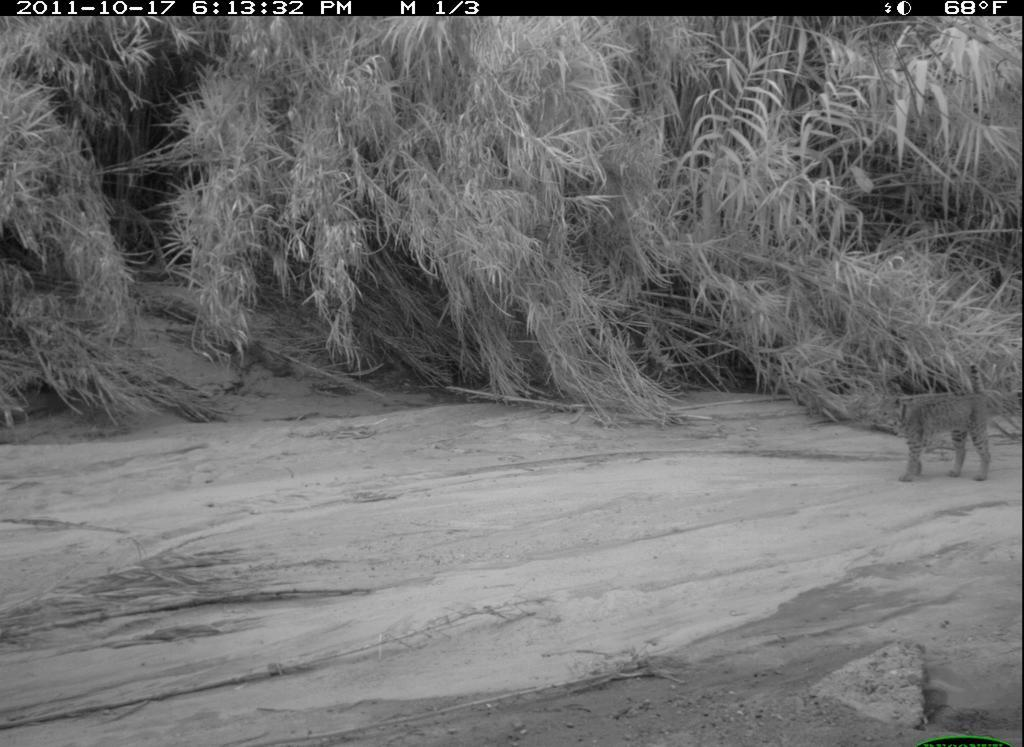bobcat: (876, 367, 1001, 489)
